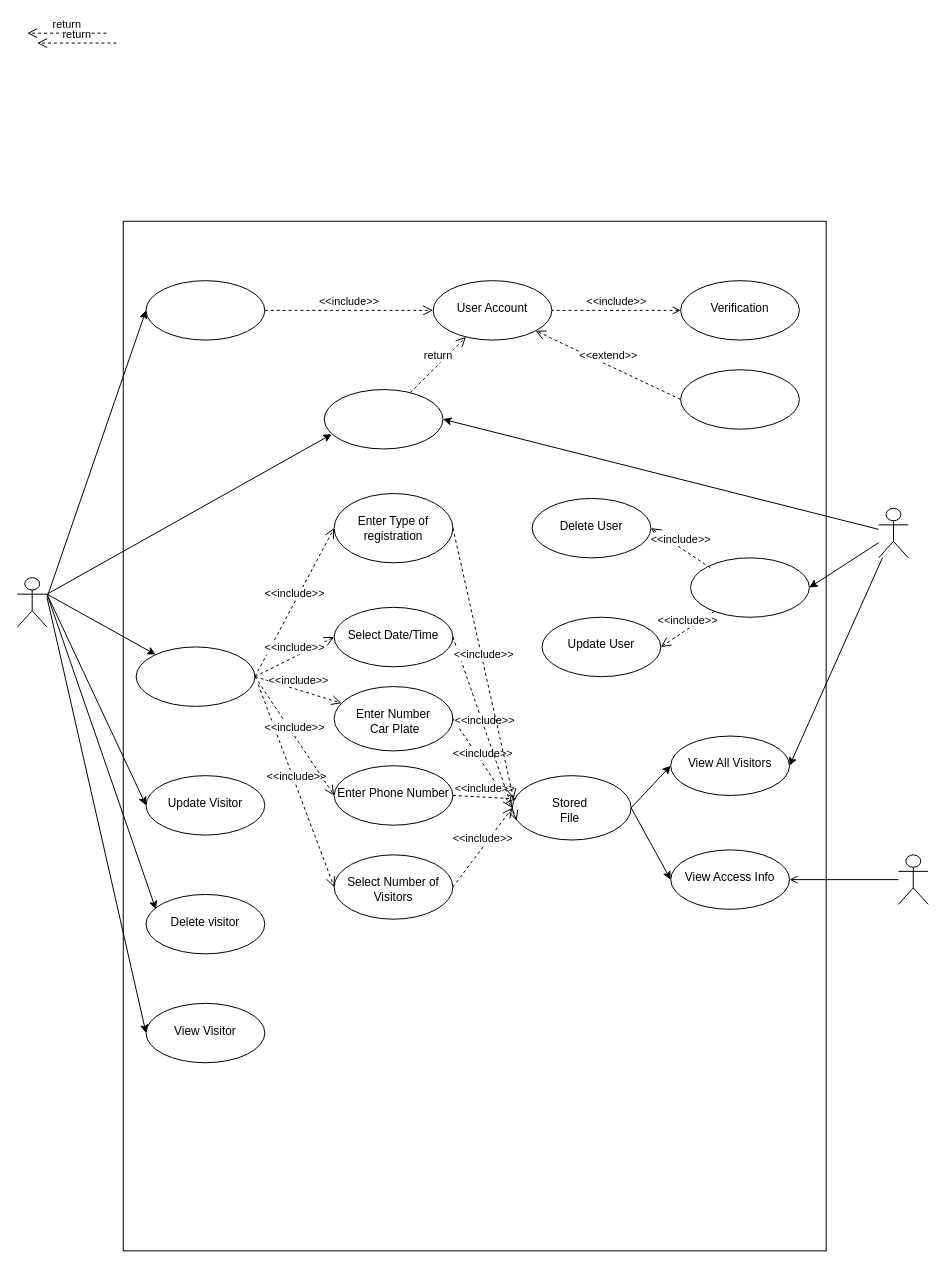
Some shapes in this 946 by 1268 pixel diagram are drawn without their labels. Each missing label, with the centre of its shape:
"Create visitor" belongs at (x=195, y=676).
"Display Error Message" belongs at (x=739, y=399).
"Log in / Log out" belongs at (x=383, y=419).
"Manage User" belongs at (x=749, y=587).
"Register" belongs at (x=205, y=310).
"Security" belongs at (x=893, y=532).
"User" belongs at (x=31, y=602).
"Visitor" belongs at (x=912, y=879).
